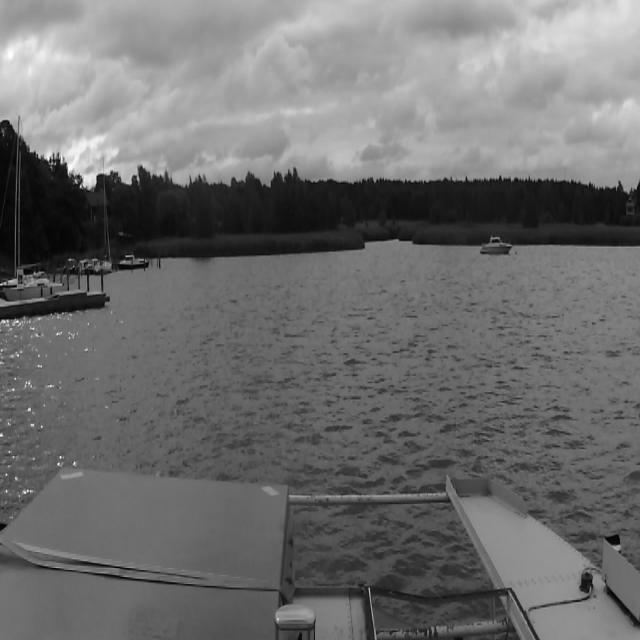ship: (0, 118, 62, 294), (94, 156, 108, 270), (477, 232, 513, 256), (118, 253, 150, 271)
